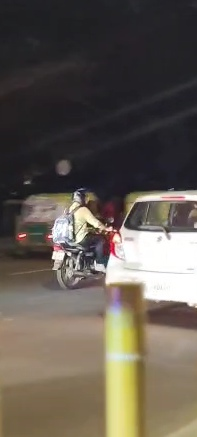BikeWithRider: (42, 186, 132, 289)
Helmet: (68, 185, 94, 211)
